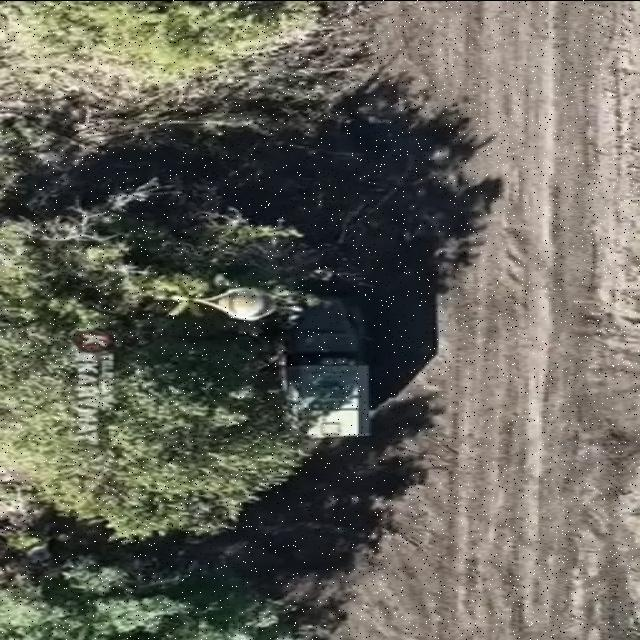TRUCK: (262, 291, 388, 449)
